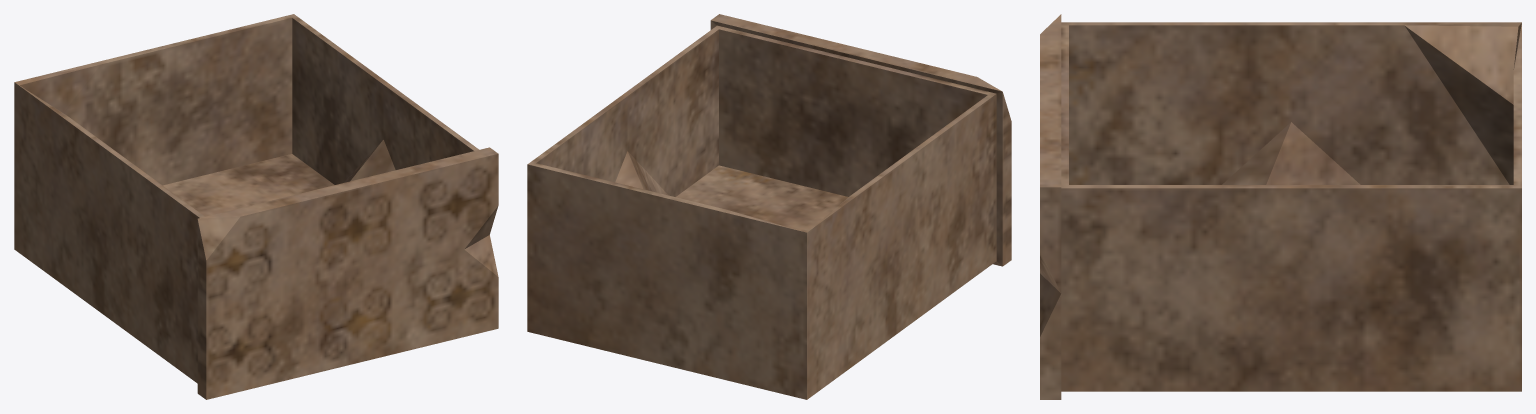
File: bone drawer 5 .fbx
3 renders of one model, left to right at view 1: azimuth 30°, elevation 25°; view 2: azimuth 150°, elevation 25°; view 3: azimuth 270°, elevation 25°, orthographic. The views are drawn at different scales.
Parts seen in each view (by area): view 1: Cube.009; view 2: Cube.009; view 3: Cube.009.
Part boxes in pixels (left/top/right/bottom): Cube.009: left=14, top=14, right=498, bottom=399; Cube.009: left=527, top=14, right=1011, bottom=399; Cube.009: left=1040, top=14, right=1521, bottom=399.
Size of the model in its own units: 132 by 75.48 by 155.
1 material, 1 textured.
